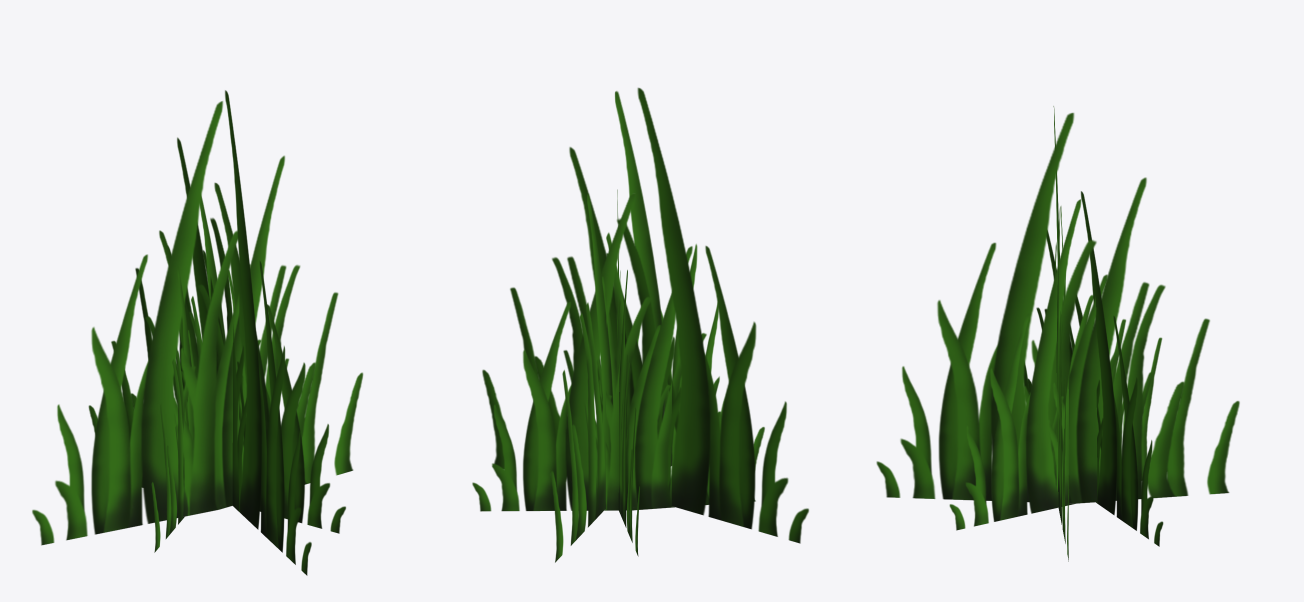
Rendered from grass_clump.glb.
3 renders of one model, left to right at view 1: azimuth 30°, elevation 25°; view 2: azimuth 150°, elevation 25°; view 3: azimuth 270°, elevation 25°, orthographic. The views are drawn at different scales.
Visible parts, largest first — view 1: pPlane1_StingrayPBS1_0, pPlane2_StingrayPBS1_0, pPlane3_StingrayPBS1_0, pPlane4_StingrayPBS1_0; view 2: pPlane1_StingrayPBS1_0, pPlane4_StingrayPBS1_0, pPlane2_StingrayPBS1_0, pPlane3_StingrayPBS1_0; view 3: pPlane2_StingrayPBS1_0, pPlane3_StingrayPBS1_0, pPlane4_StingrayPBS1_0, pPlane1_StingrayPBS1_0.
Part boxes in pixels (x1,y1,x2,y2): pPlane1_StingrayPBS1_0: (32,101,363,545); pPlane2_StingrayPBS1_0: (122,90,311,575); pPlane3_StingrayPBS1_0: (88,182,345,533); pPlane4_StingrayPBS1_0: (151,195,235,552); pPlane1_StingrayPBS1_0: (482,87,808,543); pPlane4_StingrayPBS1_0: (472,194,764,511); pPlane2_StingrayPBS1_0: (551,91,719,562); pPlane3_StingrayPBS1_0: (617,189,639,556); pPlane2_StingrayPBS1_0: (876,112,1239,503); pPlane3_StingrayPBS1_0: (949,199,1172,530); pPlane4_StingrayPBS1_0: (1023,191,1163,546); pPlane1_StingrayPBS1_0: (1053,106,1069,561).
Size of the model in its own units: 1 by 1.01 by 1.01.
1 material, 1 textured.
